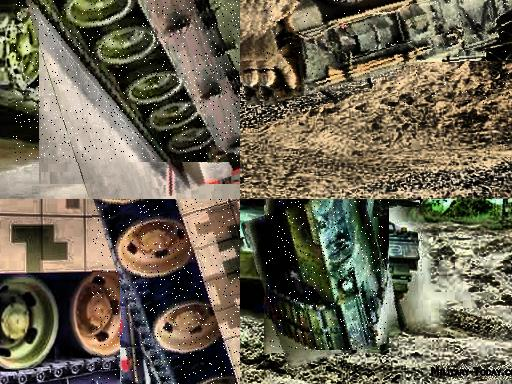tanks: (38, 1, 241, 162), (257, 1, 512, 105), (114, 200, 241, 384), (268, 202, 388, 351), (375, 201, 419, 212)
